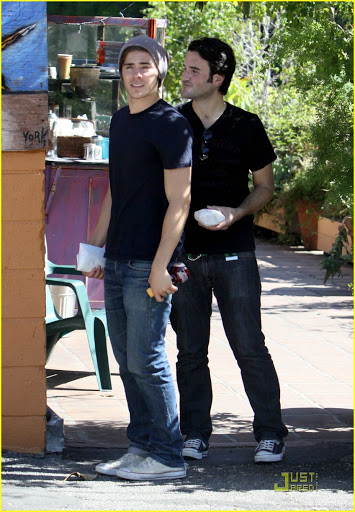Person: (74, 34, 193, 483), (174, 38, 291, 465)
